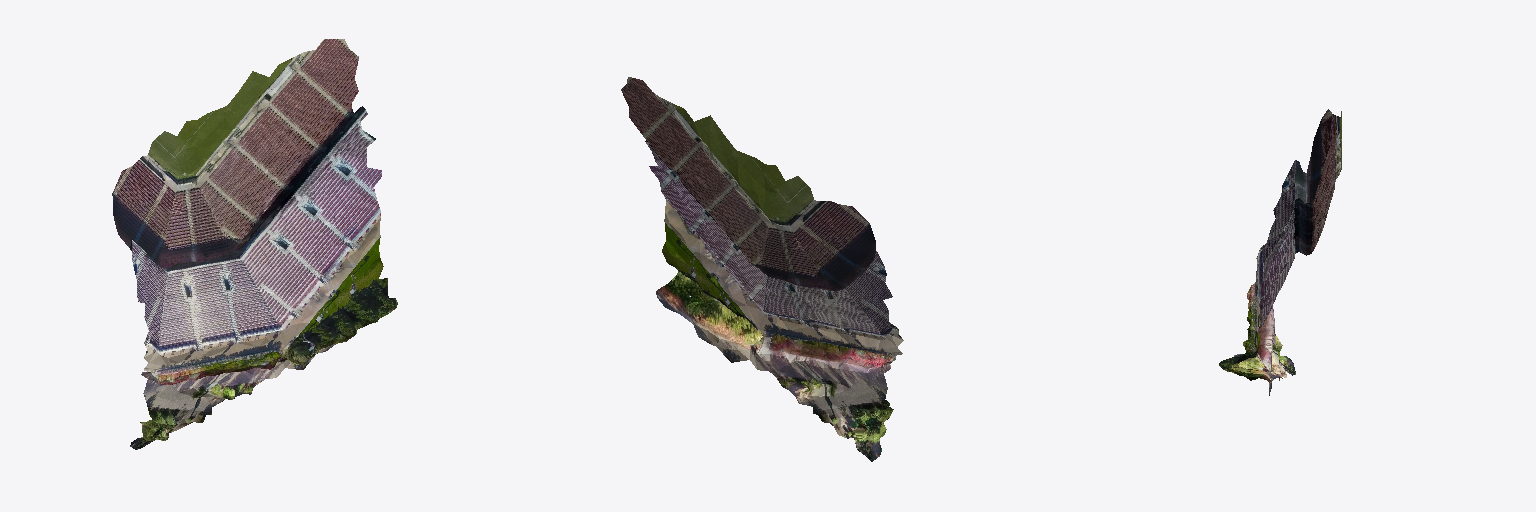
3 renders of one model, left to right at view 1: azimuth 30°, elevation 25°; view 2: azimuth 150°, elevation 25°; view 3: azimuth 270°, elevation 25°, orthographic.
Bounding box in the file's own units: 70.88 × 93.47 × 30.27.
Materials: 1 (1 with a texture image).